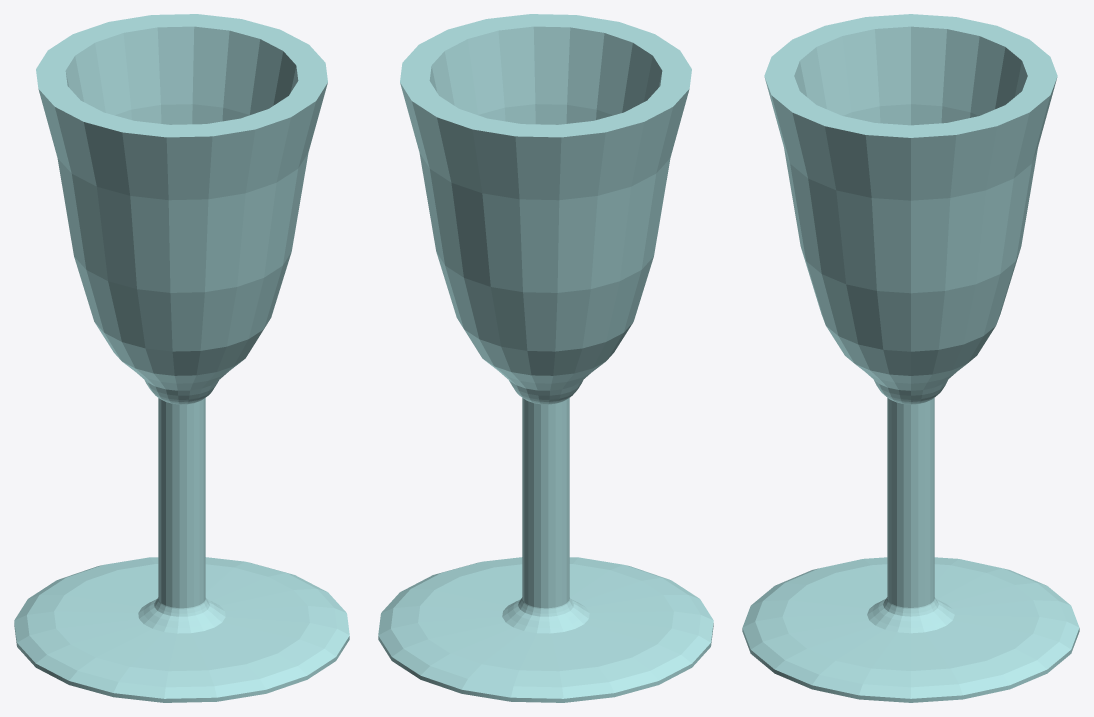
File: Glass.fbx
The picture shows the model from 3 angles, left to right: view 1: azimuth 30°, elevation 25°; view 2: azimuth 150°, elevation 25°; view 3: azimuth 270°, elevation 25°; orthographic projection.
Visible parts, largest first — view 1: pCylinder14; view 2: pCylinder14; view 3: pCylinder14.
Boxes of the visible parts, left/top/right/bottom form: pCylinder14: left=14, top=14, right=349, bottom=702; pCylinder14: left=378, top=14, right=713, bottom=702; pCylinder14: left=742, top=14, right=1079, bottom=702.
Size of the model in its own units: 0.7062 by 1.28 by 0.7062.
